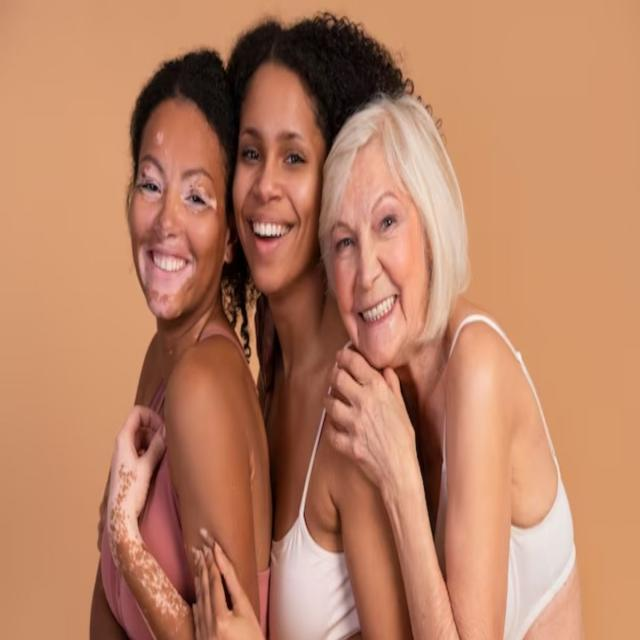vitiligo: (140, 239, 203, 313), (183, 179, 223, 222), (142, 162, 171, 212), (138, 121, 168, 148)
